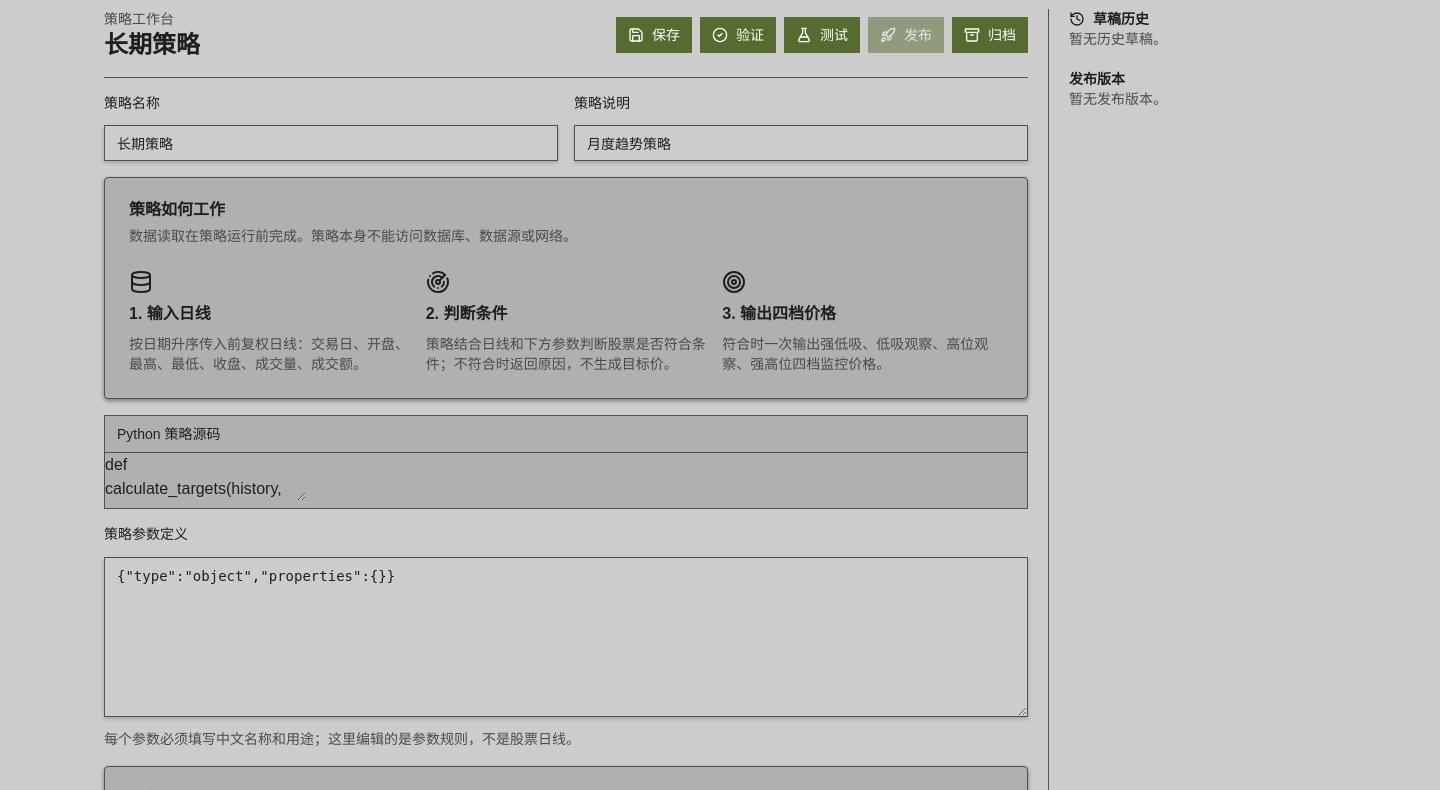
Test: 策略工作台 › 参数必须是合法的 JSON Schema
The width and height of the screenshot is (1440, 790).
Clear the text box named "参数 JSON Schema" at point(566, 636), box x1=104 y1=556 x2=1028 y2=716
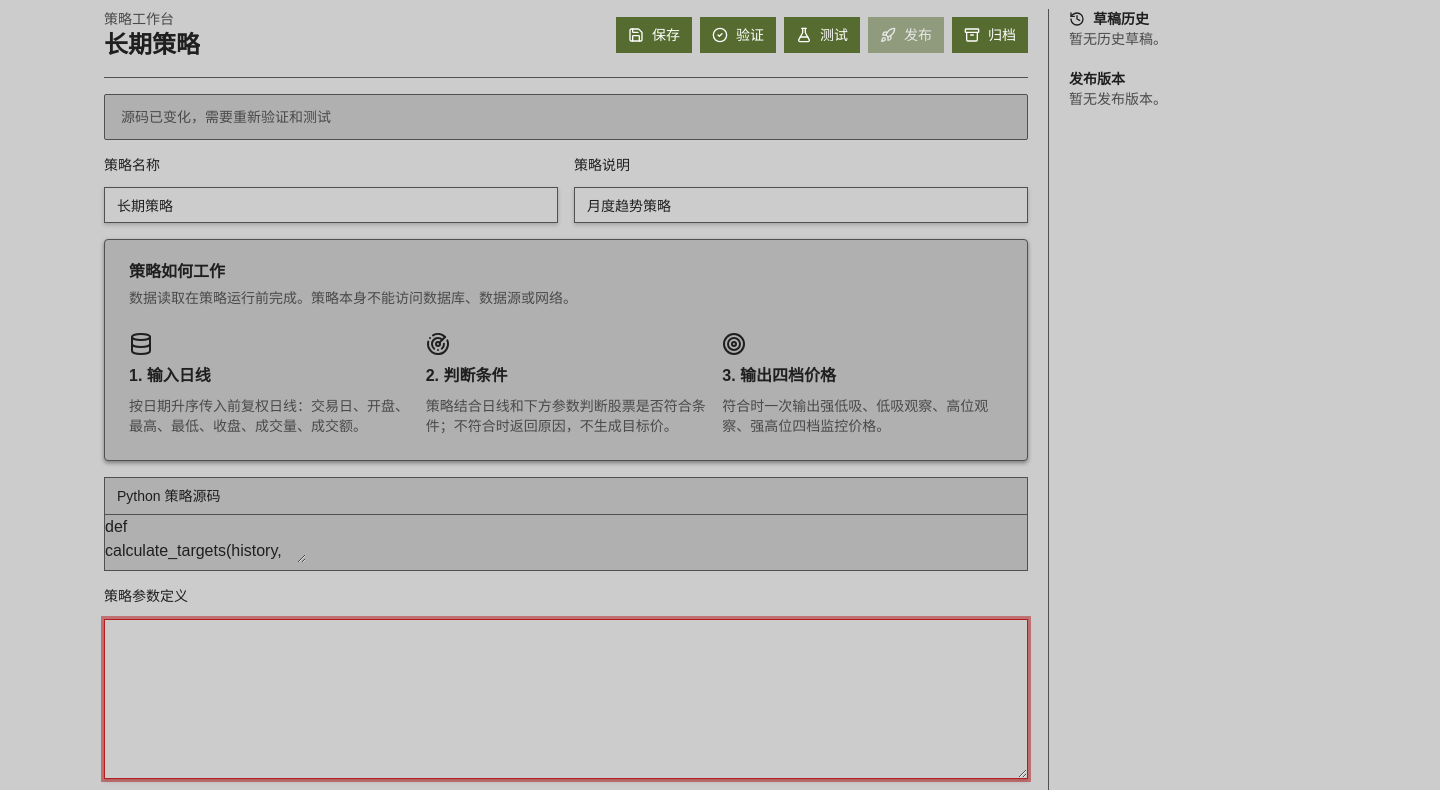
Type "不是 JSON" into the text box named "参数 JSON Schema" at point(566, 698), box x1=104 y1=618 x2=1028 y2=778
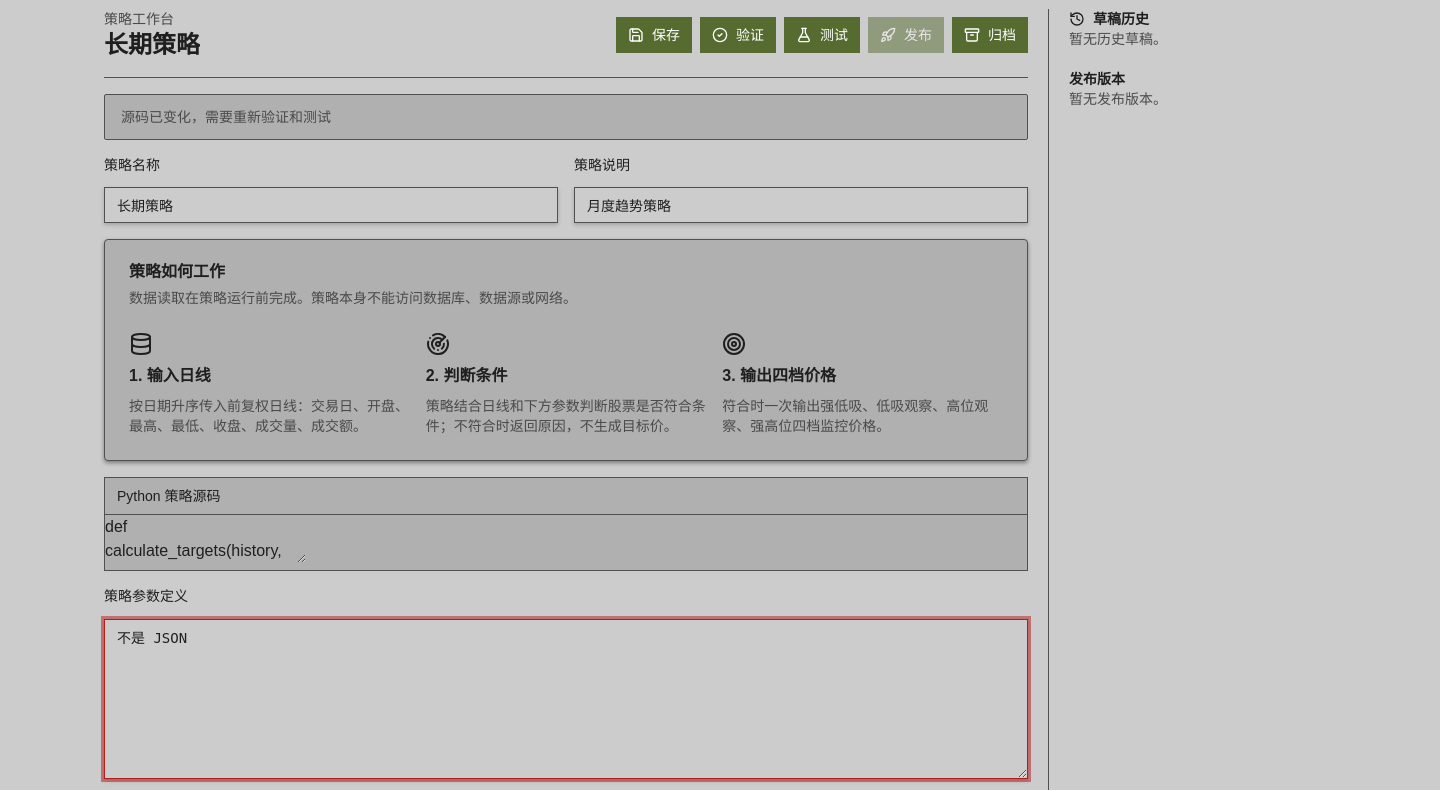
Click the button "保存" at point(654, 35), box x1=616 y1=17 x2=692 y2=53
(page scrolled)
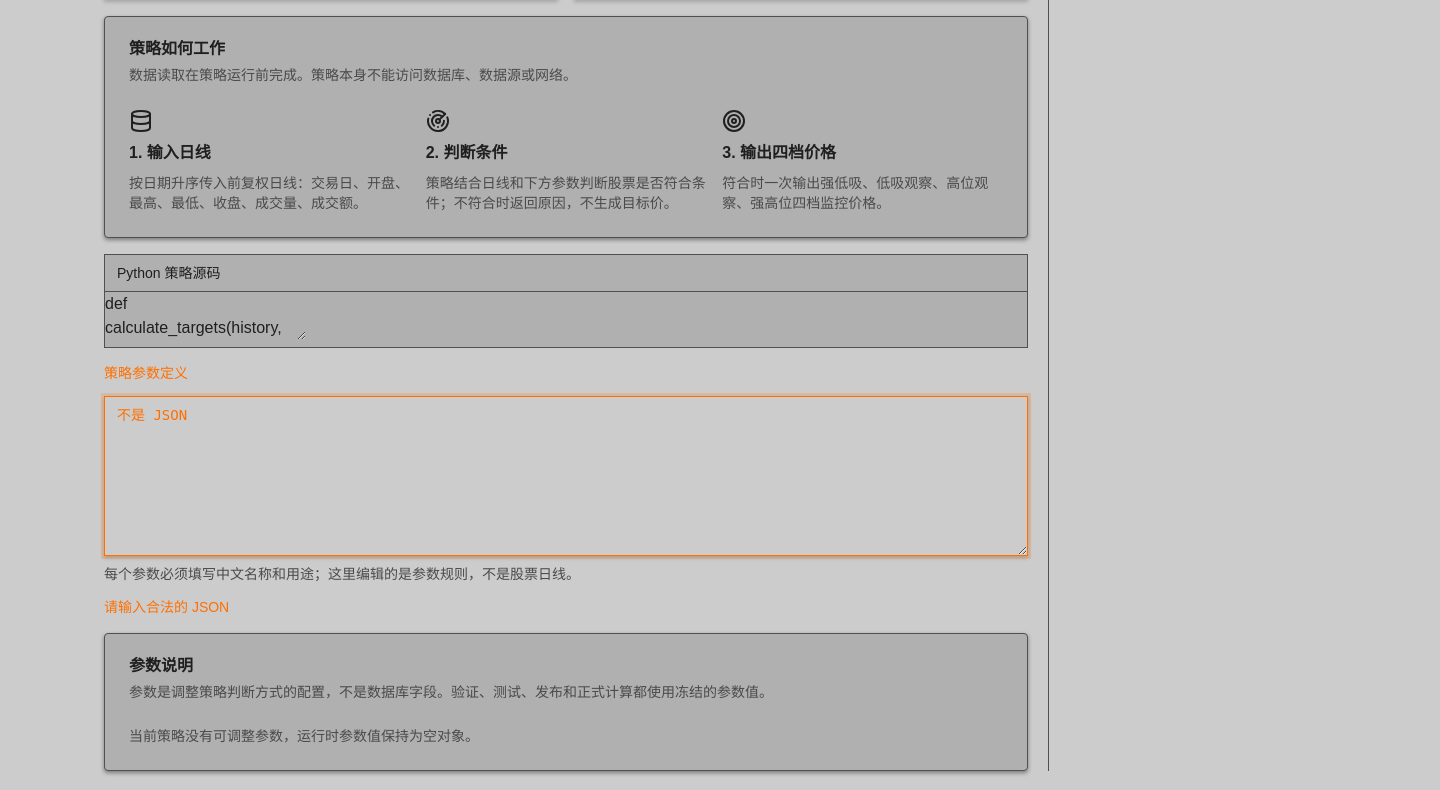
Now the text "请输入合法的 JSON" is shown, box x1=104 y1=598 x2=229 y2=614
